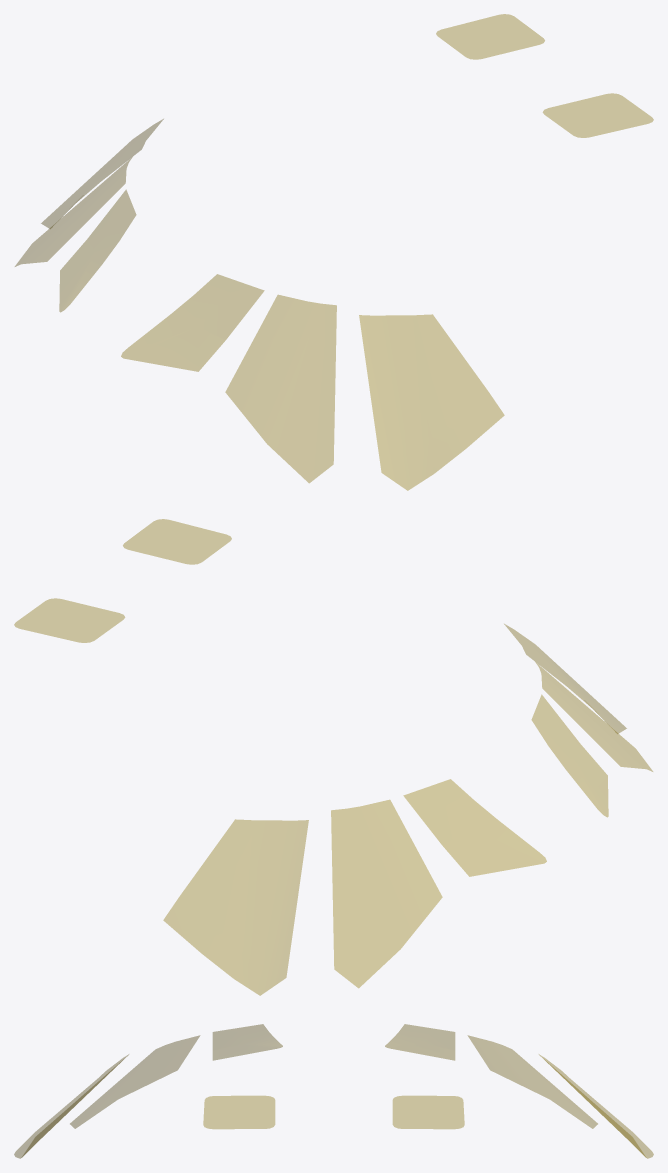
Rendered from Shuttle Windows.fbx.
3 views of the same model, one above another, from view 1: azimuth 30°, elevation 25°; view 2: azimuth 150°, elevation 25°; view 3: azimuth 270°, elevation 25° (orthographic). The views are drawn at different scales.
Visible parts, largest first — view 1: v_sts_windshield_L1, v_sts_windshield_L2, v_sts_windshield_L3, v_sts_windshield_R3, v_sts_window_top_L, v_sts_window_top_R, v_sts_windshield_R2, v_sts_windshield_R1; view 2: v_sts_windshield_R1, v_sts_windshield_R2, v_sts_windshield_R3, v_sts_windshield_L3, v_sts_window_top_R, v_sts_window_top_L, v_sts_windshield_L2, v_sts_windshield_L1; view 3: v_sts_windshield_L2, v_sts_windshield_R2, v_sts_window_top_R, v_sts_window_top_L, v_sts_windshield_L3, v_sts_windshield_R3, v_sts_windshield_L1, v_sts_windshield_R1.
Boxes of the visible parts, x1,y1,x2,y2 form: v_sts_windshield_L1: (359, 314, 504, 490); v_sts_windshield_L2: (225, 295, 336, 482); v_sts_windshield_L3: (121, 274, 264, 371); v_sts_windshield_R3: (59, 190, 136, 312); v_sts_window_top_L: (543, 93, 653, 137); v_sts_window_top_R: (436, 14, 544, 59); v_sts_windshield_R2: (15, 158, 131, 266); v_sts_windshield_R1: (41, 119, 163, 228); v_sts_windshield_R1: (163, 819, 308, 995); v_sts_windshield_R2: (331, 800, 442, 987); v_sts_windshield_R3: (403, 779, 546, 876); v_sts_windshield_L3: (531, 695, 608, 817); v_sts_window_top_R: (14, 598, 124, 642); v_sts_window_top_L: (123, 519, 231, 564); v_sts_windshield_L2: (536, 663, 652, 771); v_sts_windshield_L1: (504, 624, 626, 733); v_sts_windshield_L2: (70, 1035, 199, 1128); v_sts_windshield_R2: (468, 1035, 597, 1128); v_sts_window_top_R: (393, 1096, 464, 1128); v_sts_window_top_L: (203, 1096, 274, 1128); v_sts_windshield_L3: (213, 1024, 282, 1060); v_sts_windshield_R3: (385, 1024, 454, 1060); v_sts_windshield_L1: (14, 1054, 128, 1158); v_sts_windshield_R1: (539, 1054, 653, 1158).
Bounding box in the file's own units: 267 × 107 × 343.
